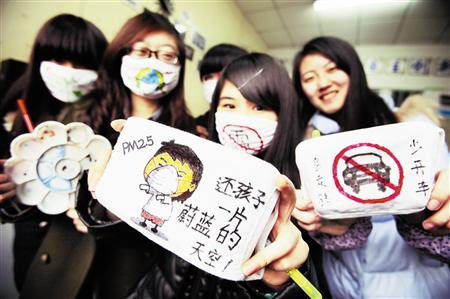NONE: (303, 63, 351, 113)
OK: (214, 92, 280, 158), (124, 40, 181, 100), (44, 45, 102, 102)
